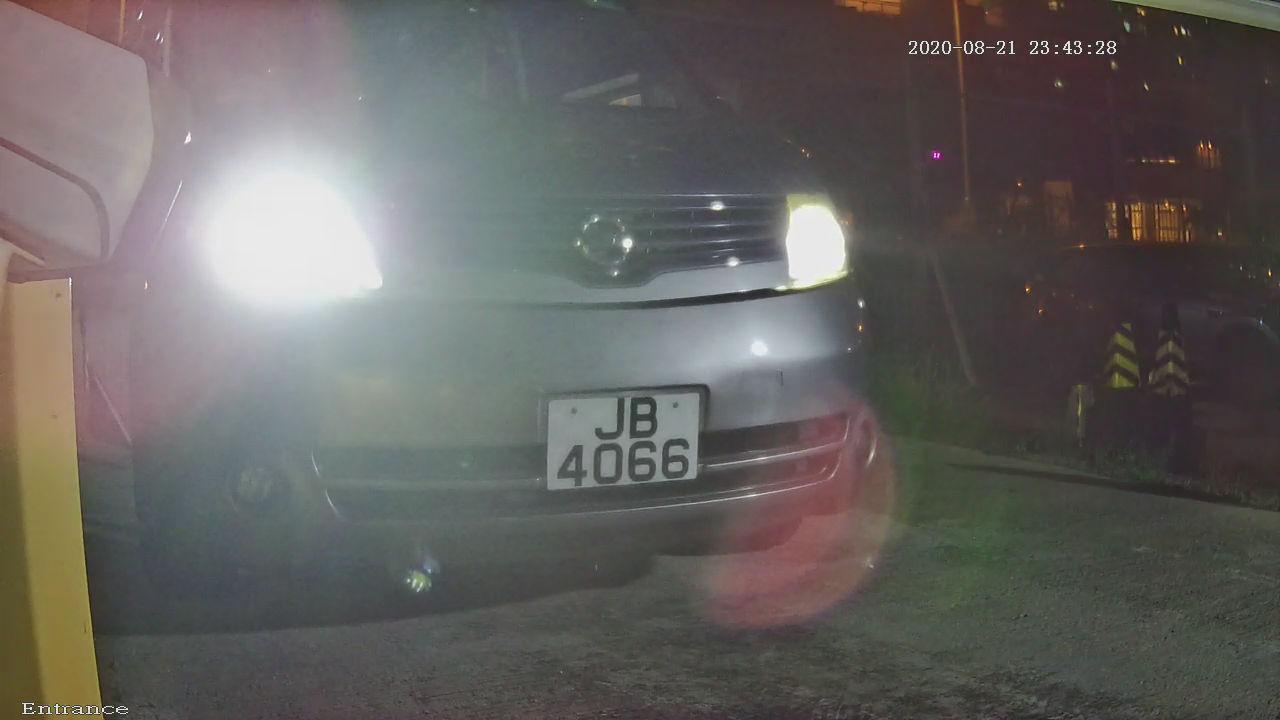License Plate: (521, 373, 732, 505)
